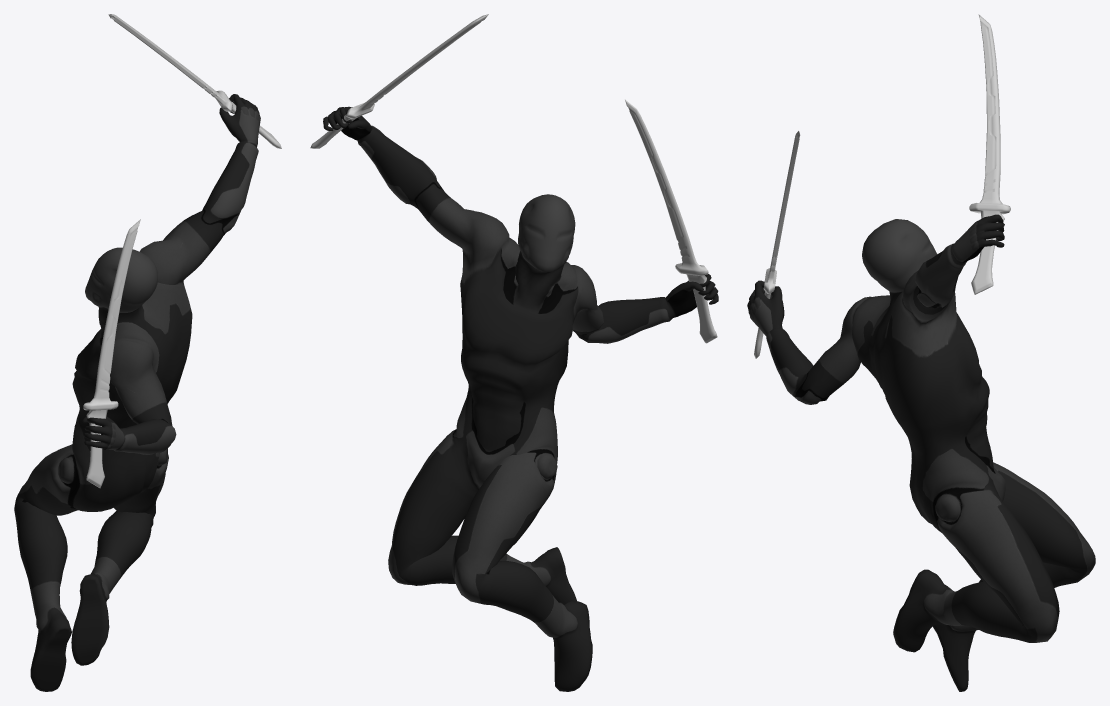
3 views of the same model, side by side, from view 1: azimuth 30°, elevation 25°; view 2: azimuth 150°, elevation 25°; view 3: azimuth 270°, elevation 25° (orthographic). The views are drawn at different scales.
Parts seen in each view (by area): view 1: Cyborg_Ninja_Killer, Sword_l, Sword_l001; view 2: Cyborg_Ninja_Killer, Sword_l, Sword_l001; view 3: Cyborg_Ninja_Killer, Sword_l001, Sword_l.
Part boxes in pixels (x1=…): Cyborg_Ninja_Killer: x1=14, y1=94, x2=260, y2=691; Sword_l: x1=83, y1=219, x2=140, y2=488; Sword_l001: x1=108, y1=14, x2=281, y2=148; Cyborg_Ninja_Killer: x1=323, y1=106, x2=718, y2=691; Sword_l: x1=625, y1=99, x2=717, y2=343; Sword_l001: x1=310, y1=14, x2=488, y2=148; Cyborg_Ninja_Killer: x1=747, y1=214, x2=1095, y2=691; Sword_l001: x1=969, y1=14, x2=1010, y2=294; Sword_l: x1=754, y1=131, x2=800, y2=358.
Bounding box in the file's own units: 110 × 233 × 104.
